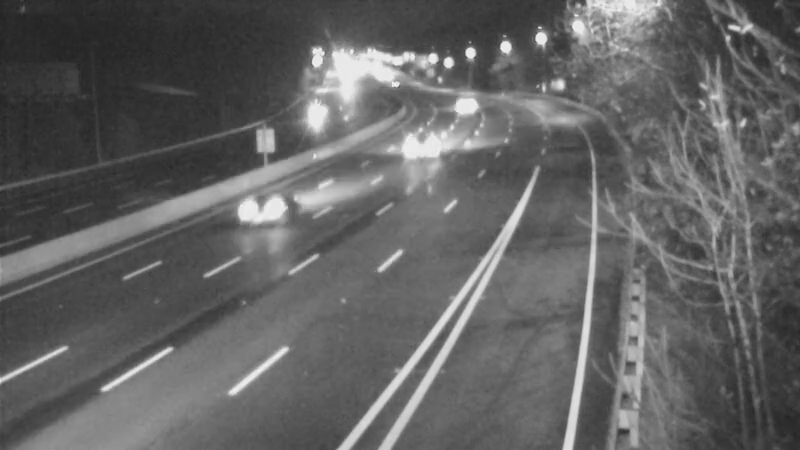vehicle: (223, 174, 303, 254), (441, 74, 491, 124), (392, 122, 442, 172), (291, 87, 341, 137)
